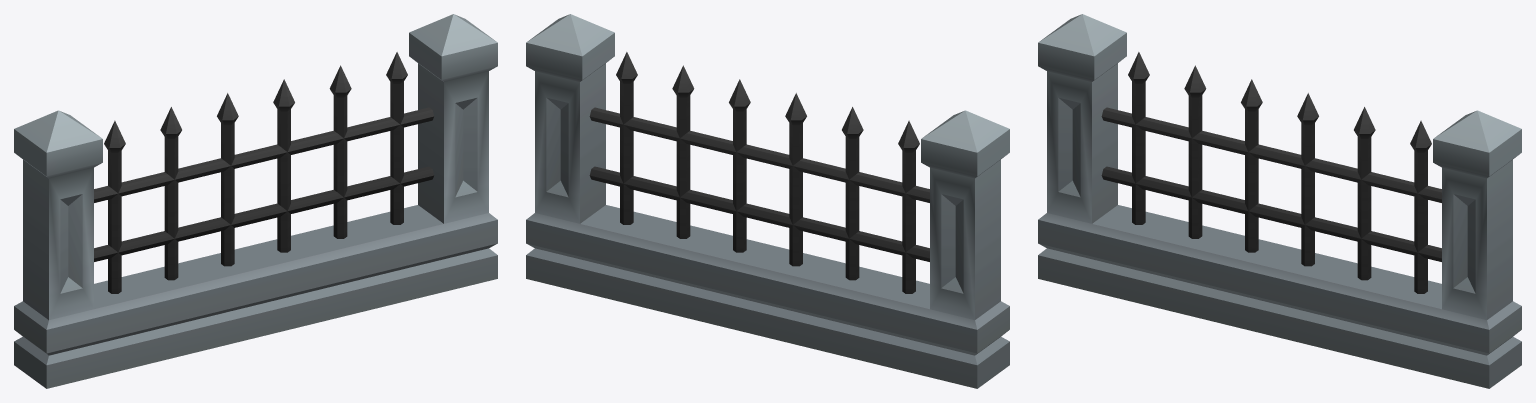
File: fence.glb
3 renders of one model, left to right at view 1: azimuth 30°, elevation 25°; view 2: azimuth 150°, elevation 25°; view 3: azimuth 330°, elevation 25°, orthographic.
Parts seen in each view (by area): view 1: fence; view 2: fence; view 3: fence.
Part boxes in pixels (<box>): fence: <box>14,14,497,388</box>; fence: <box>526,14,1009,388</box>; fence: <box>1038,14,1521,388</box>.
Bounding box in the file's own units: 4 × 2.2 × 0.5.
1 material, 1 textured.
